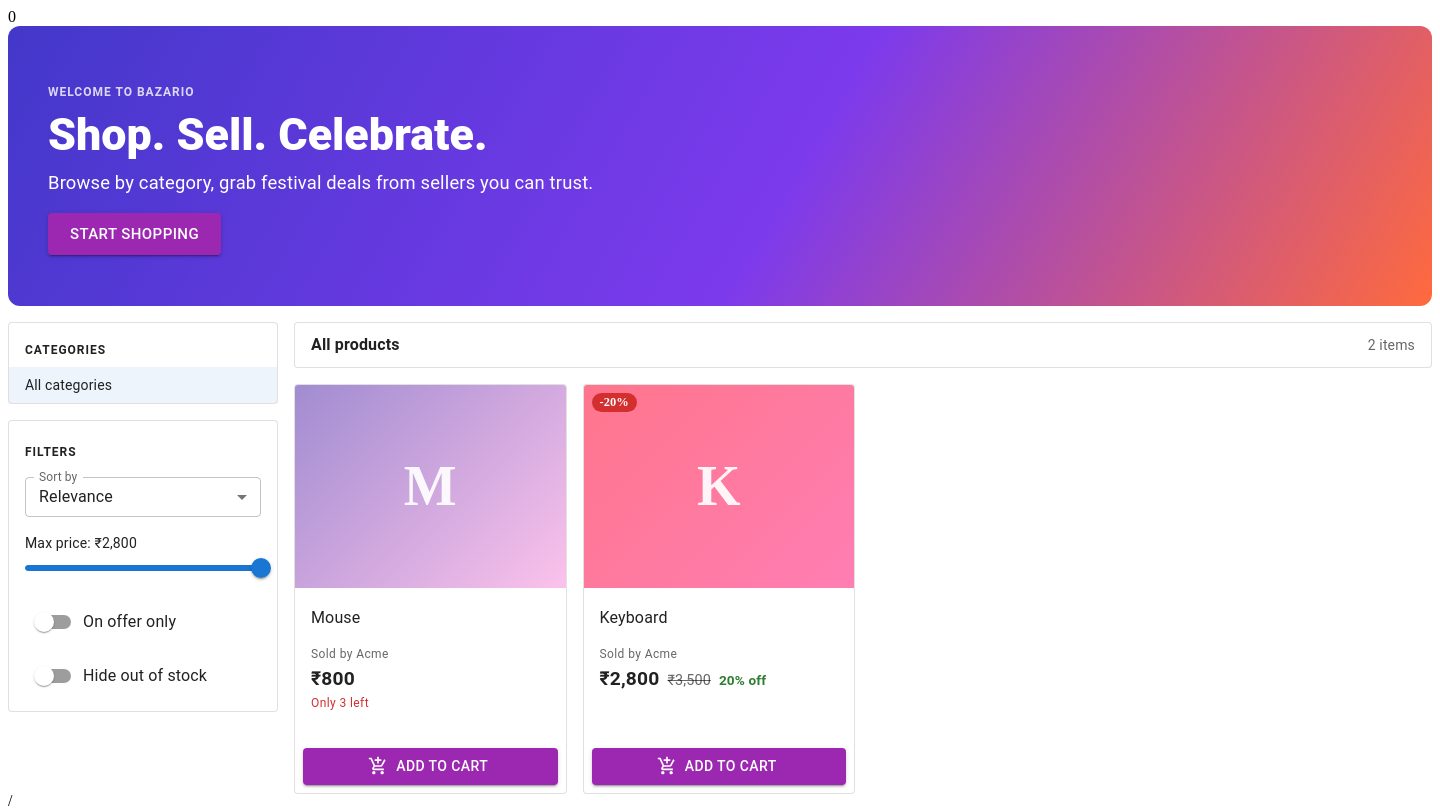
Test: ProductList › shows only discounted products with 'On offer only'
Check: the heading "Keyboard" is shown, box [600,608,668,627]
What coordinates should you click on to do the following:
click the switch labelled "On offer only"
I would click on:
 (105, 622)
Its box is [34,612,176,632].
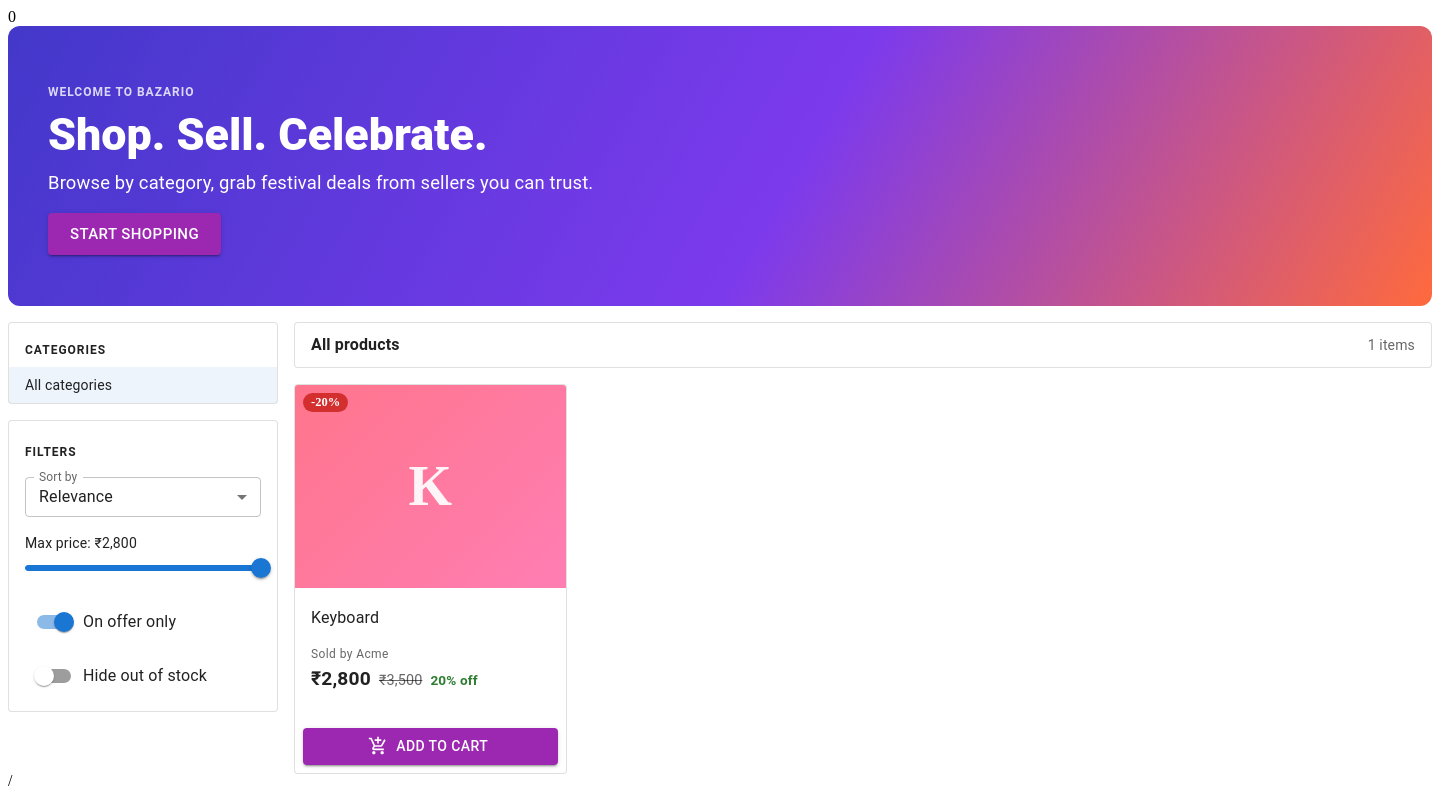
Check: the heading "Keyboard" is shown, box [311,608,379,627]
Check: the link "Mouse" is gone
